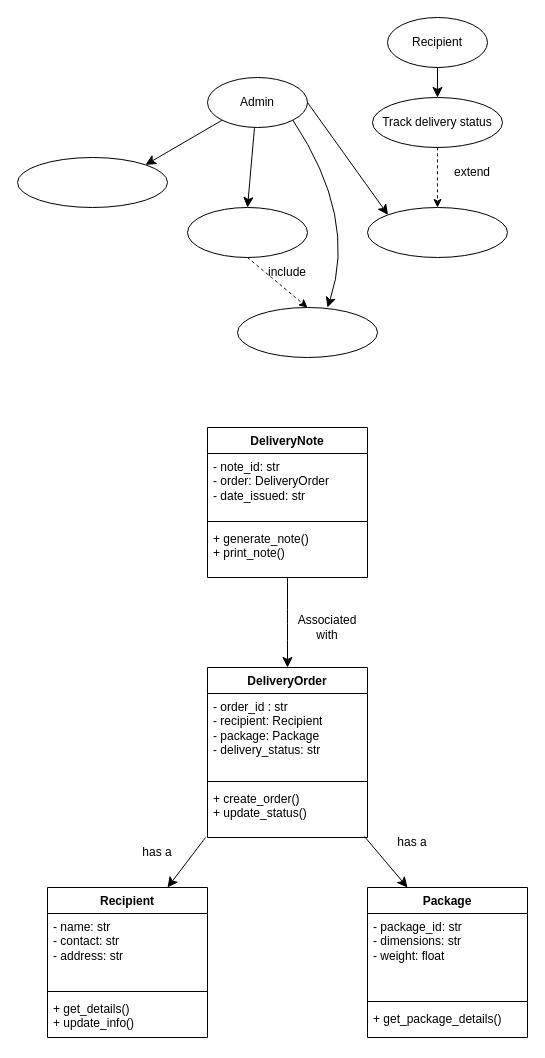
The diagram is 545 pixels wide and 1058 high, and some of its shapes have lost their labels. Each missing label, with the centre of its shape:
"Create delivery order" goes at pixel 247 232.
"Generate delivery note" goes at pixel 307 332.
"Manage customer info" goes at pixel 92 182.
"Update delivery status" goes at pixel 437 232.
